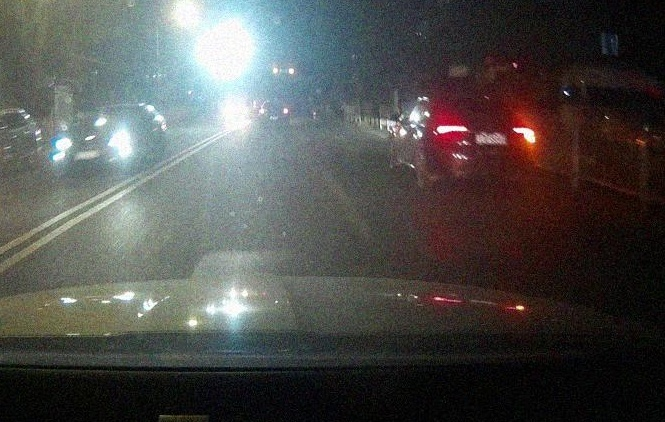L_light: (436, 126, 468, 140)
R_light: (512, 127, 536, 144)
T_light: (463, 103, 479, 108)
night-right: (435, 98, 537, 191)
